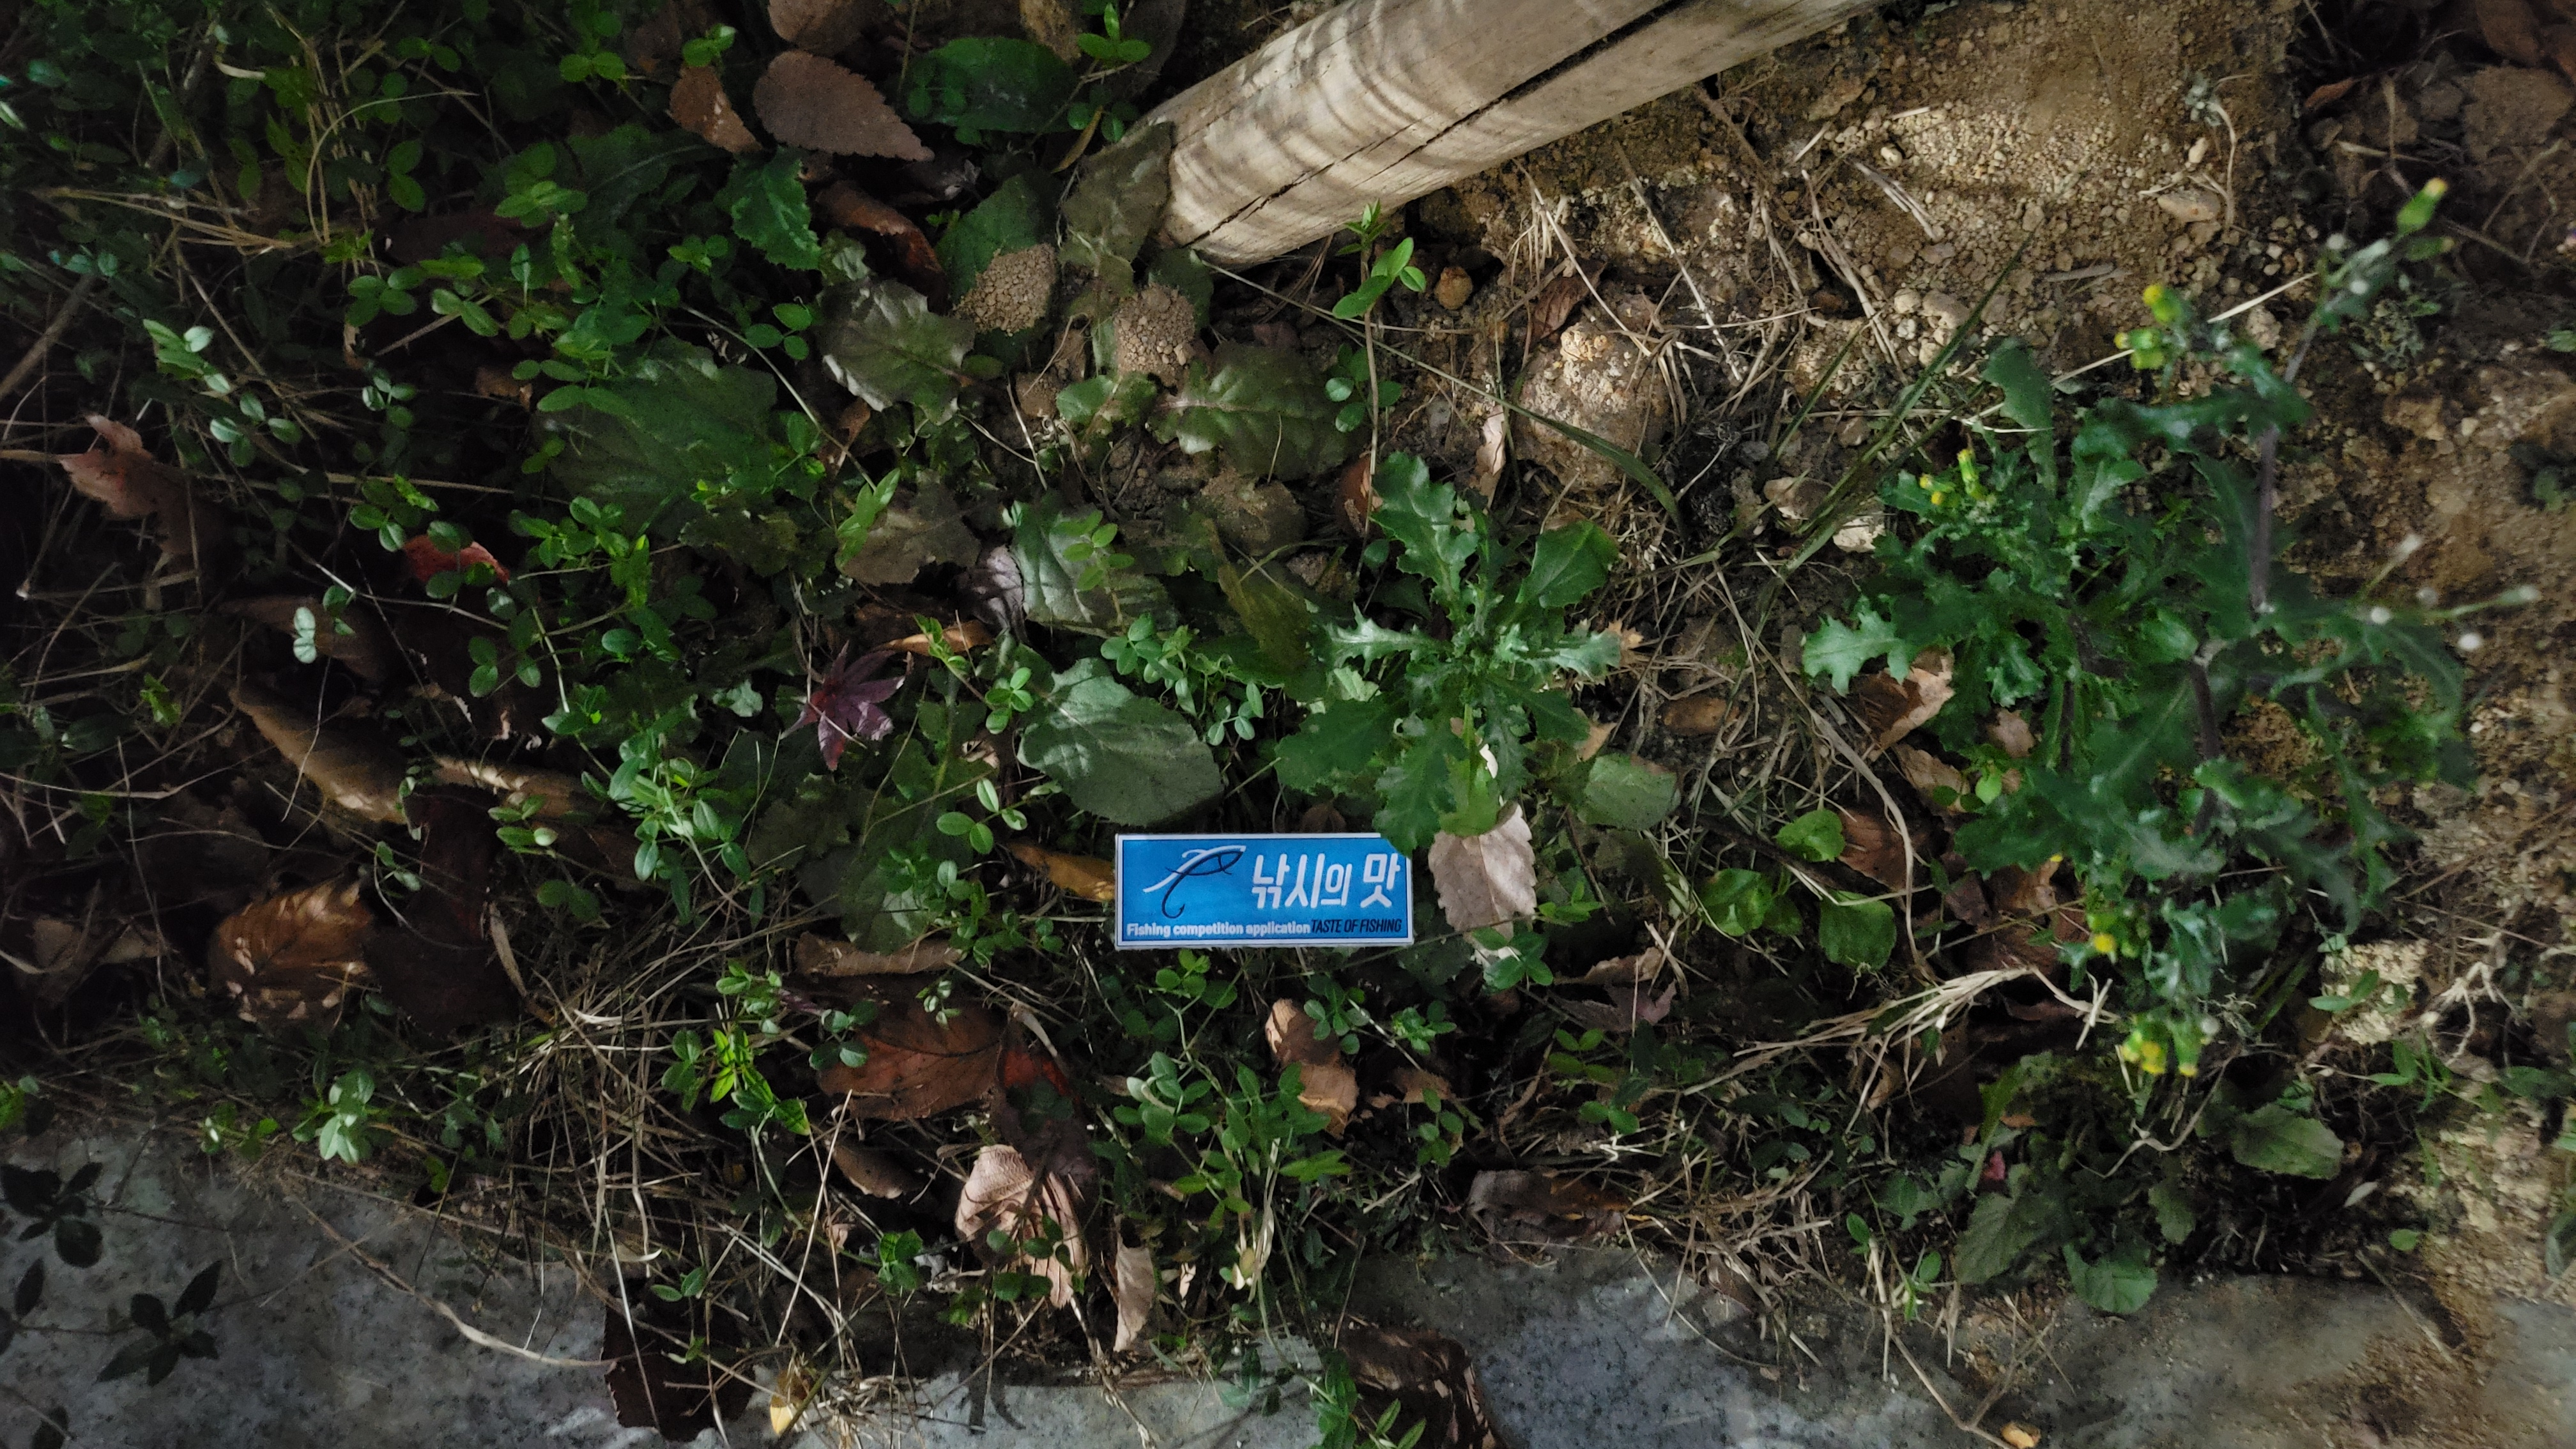tag: (1113, 830, 1415, 950)
